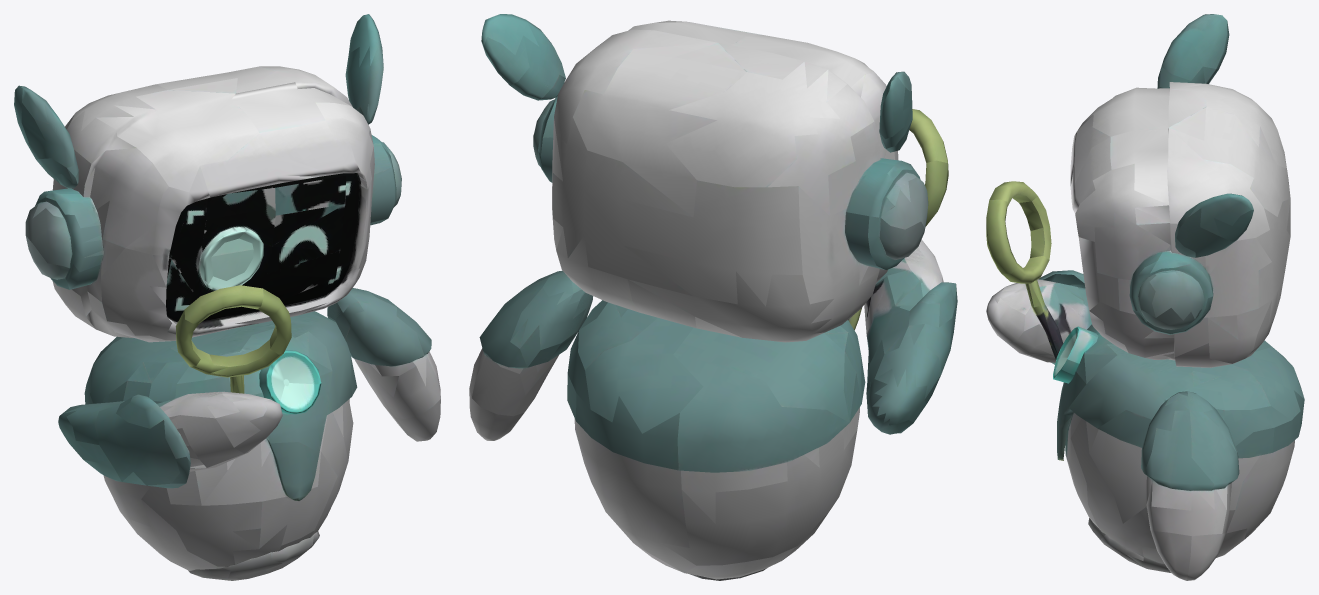
The model's file is robot-green.glb.
3 renders of one model, left to right at view 1: azimuth 30°, elevation 25°; view 2: azimuth 150°, elevation 25°; view 3: azimuth 270°, elevation 25°, orthographic. The views are drawn at different scales.
Visible parts, largest first — view 1: mesh_node; view 2: mesh_node; view 3: mesh_node.
Part boxes in pixels (x1,y1,x2,y2): mesh_node: (14, 14, 440, 580); mesh_node: (469, 14, 957, 580); mesh_node: (986, 14, 1304, 580).
Size of the model in its own units: 0.8242 by 1 by 0.6191.
1 material, 1 textured.
